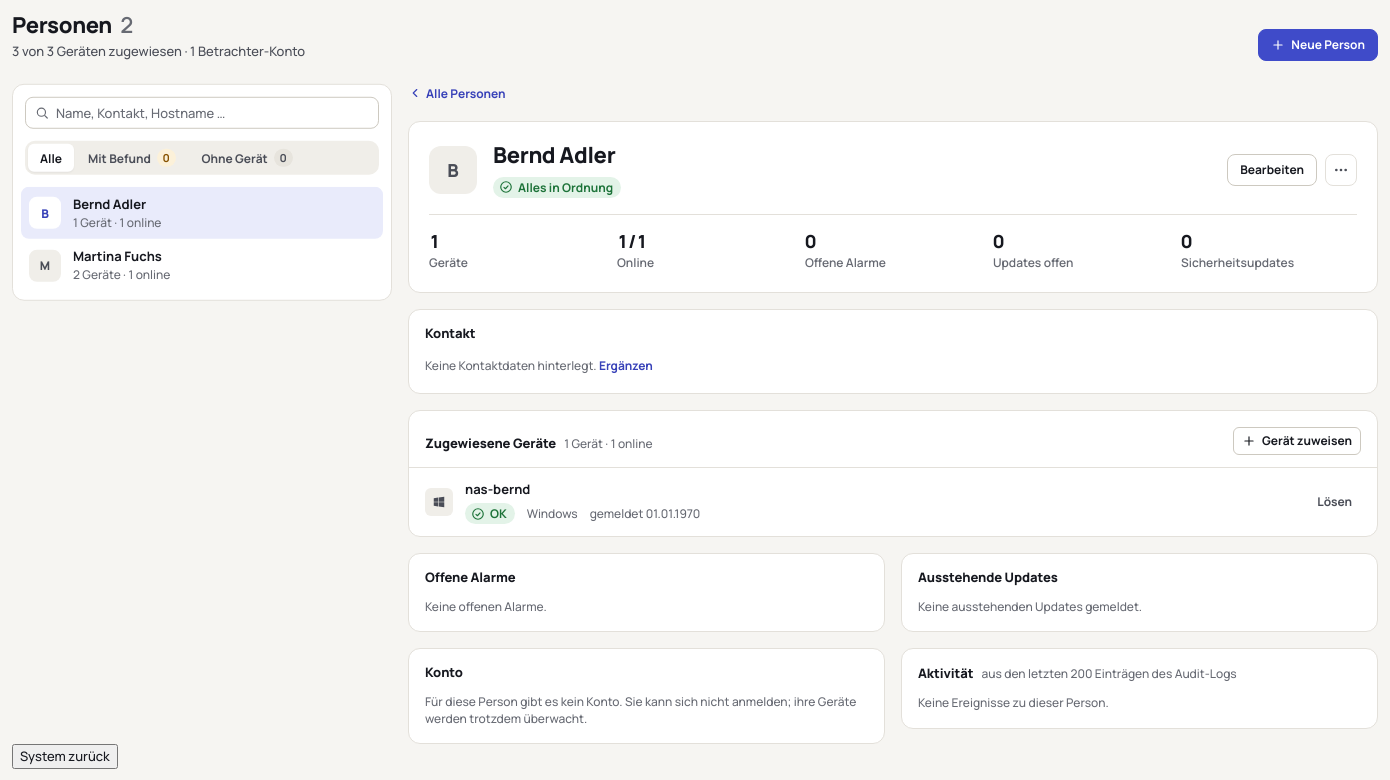
it: PersonsPage › flags exactly the people the „Mit Befund“ filter shows
The image size is (1390, 780).
Check: the button "M Martina Fuchs 2 Geräte · 1 online" is shown, box [21, 239, 383, 291]
Click the tab "Mit Befund 0": (132, 158) [76, 144, 188, 172]
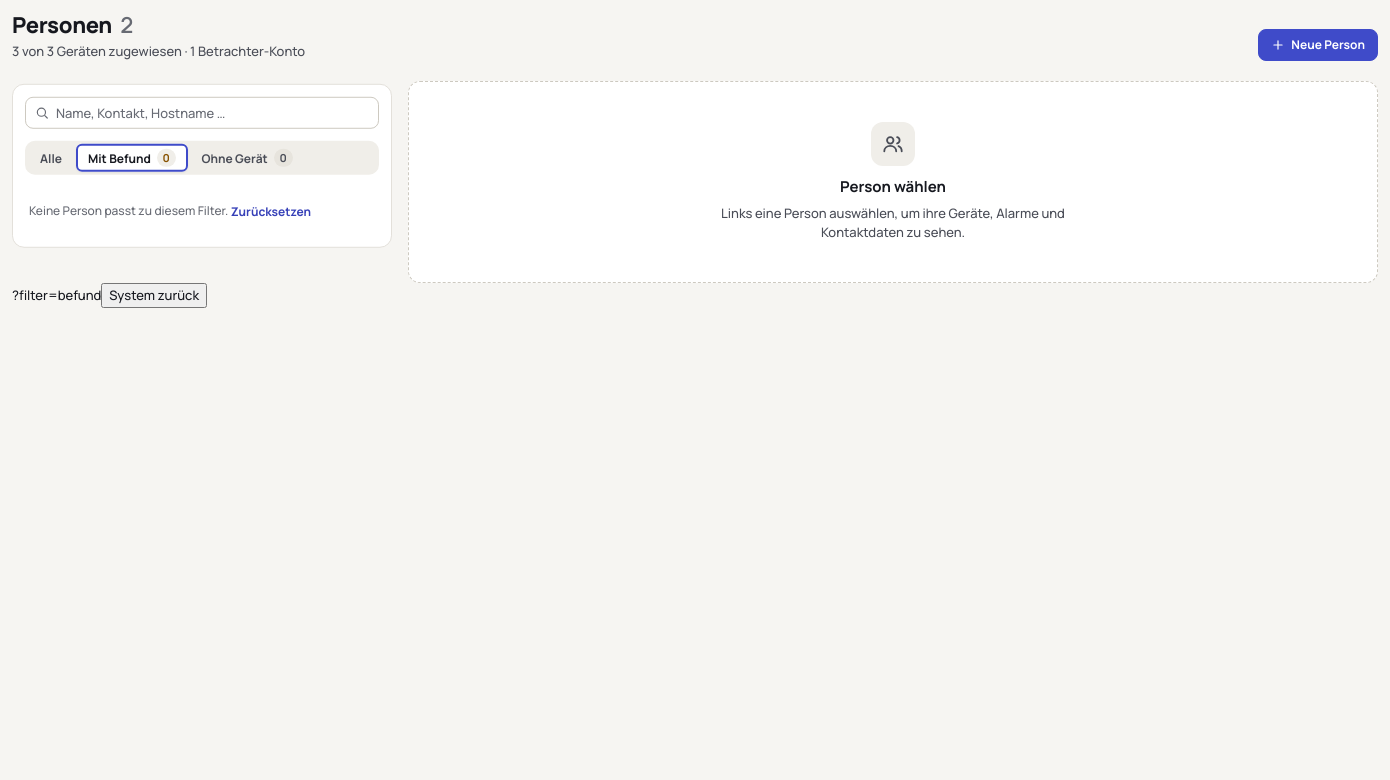
Check: the button "Martina Fuchs" is gone
